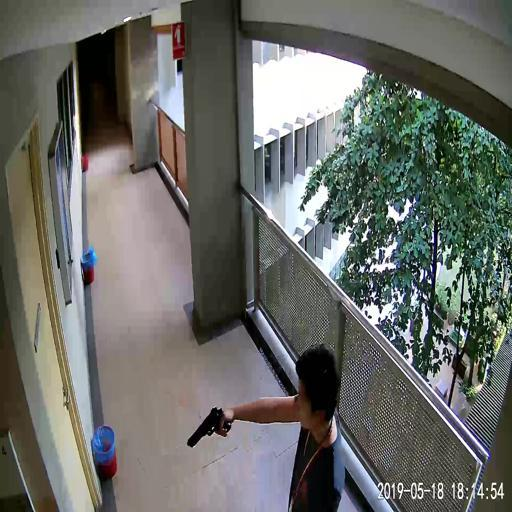Handgun: (185, 402, 230, 447)
